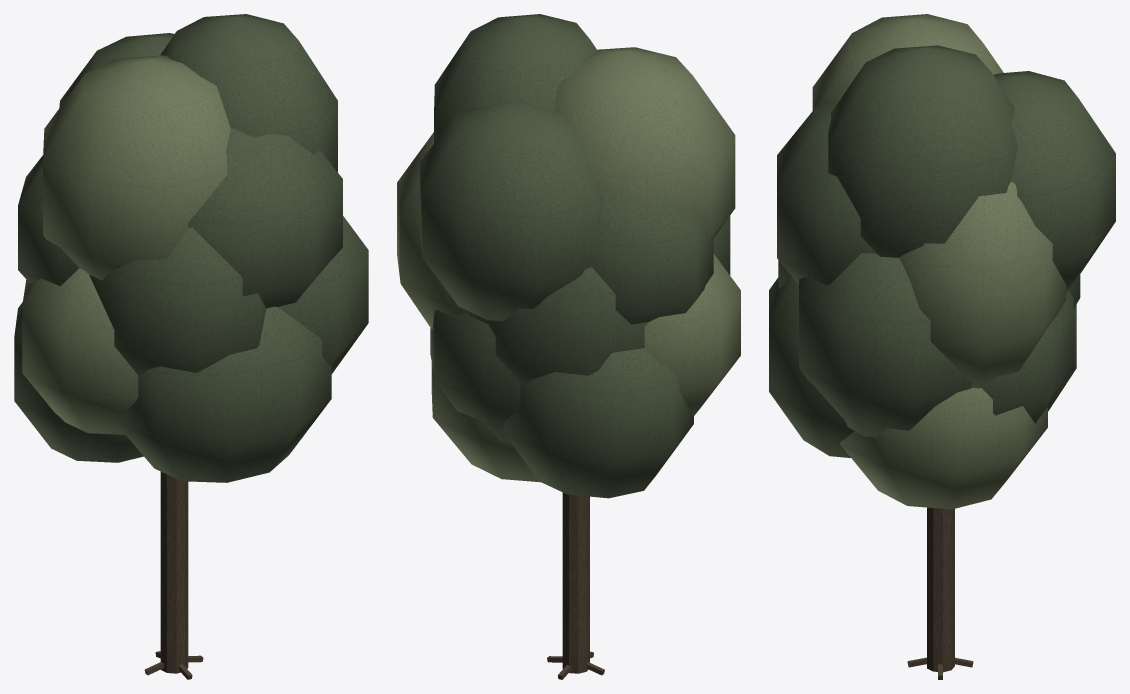
The model's file is CompactBoundaryTree.fbx.
3 renders of one model, left to right at view 1: azimuth 30°, elevation 25°; view 2: azimuth 150°, elevation 25°; view 3: azimuth 270°, elevation 25°, orthographic. The views are drawn at different scales.
Visible parts, largest first — view 1: CompactBoundaryTree; view 2: CompactBoundaryTree; view 3: CompactBoundaryTree.
Part boxes in pixels (left/top/right/bottom): CompactBoundaryTree: left=14, top=14, right=368, bottom=679; CompactBoundaryTree: left=397, top=14, right=740, bottom=679; CompactBoundaryTree: left=769, top=14, right=1115, bottom=679.
Size of the model in its own units: 399 by 793 by 387.
1 material, 1 textured.
